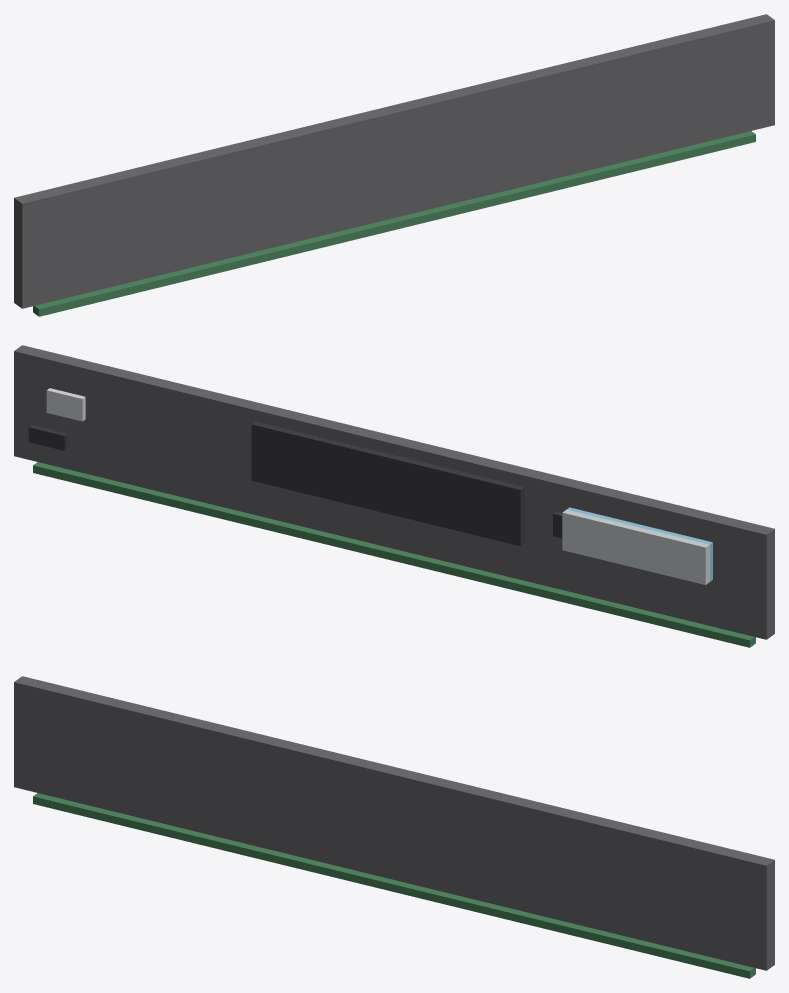
File: front_panel.gltf
The picture shows the model from 3 angles, top to bottom: view 1: azimuth 30°, elevation 25°; view 2: azimuth 150°, elevation 25°; view 3: azimuth 330°, elevation 25°; orthographic projection.
Parts seen in each view (by area): view 1: front_panel; view 2: front_panel; view 3: front_panel.
Part boxes in pixels (x1,y1,x2,y2): front_panel: [14, 14, 774, 316]; front_panel: [14, 345, 774, 647]; front_panel: [14, 676, 774, 978].
Bounding box in the file's own units: 0.42 × 0.063 × 0.015.
